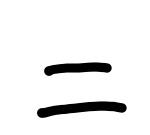eqv: (37, 62, 128, 118)
